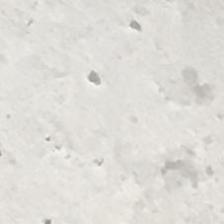Non_Crack: (34, 23, 205, 215)
